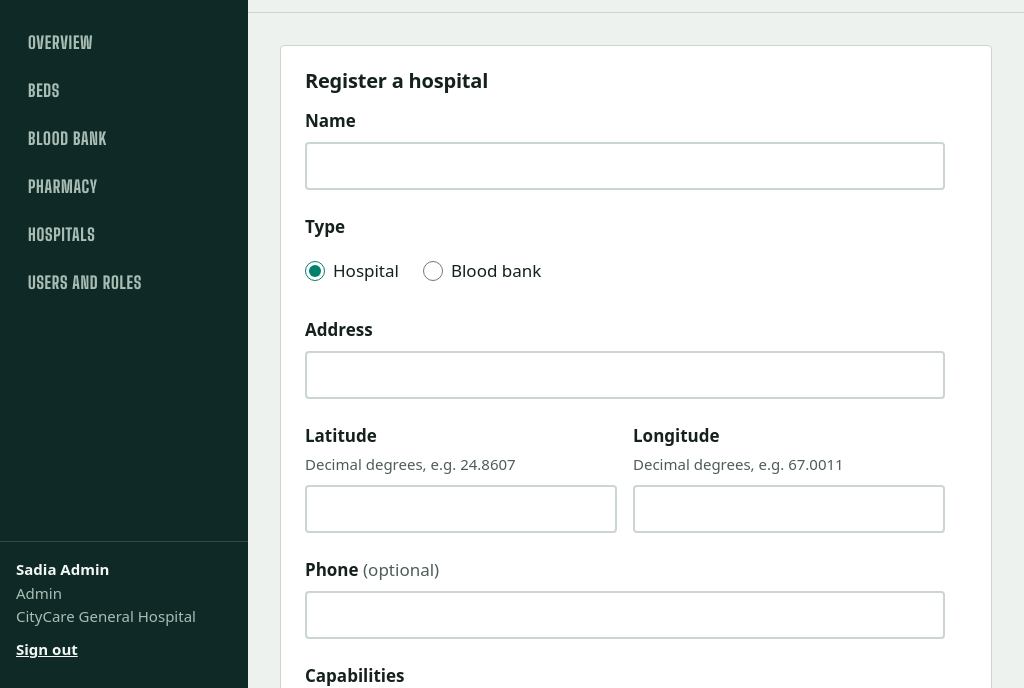
Test: HospitalFormPage (story 1.3 Hospital registration and capability profile) › registers a blood bank with capabilities and opens its page
Step 1. Type "Northside Hospital" into the field labelled "Name" → (625, 166), box [305,142,945,190]
Step 2. Type "North Nazimabad, Karachi" into the field labelled "Address" → (625, 375), box [305,351,945,399]
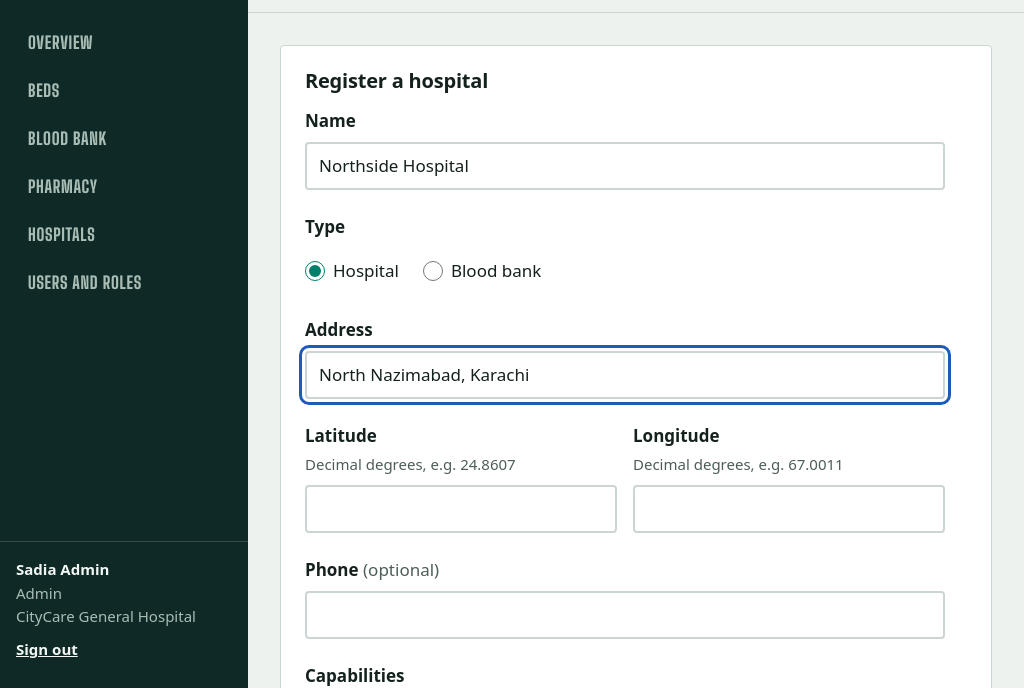
Step 3. Type "24.9420" into the field labelled "Latitude" → (461, 509), box [305,485,617,533]
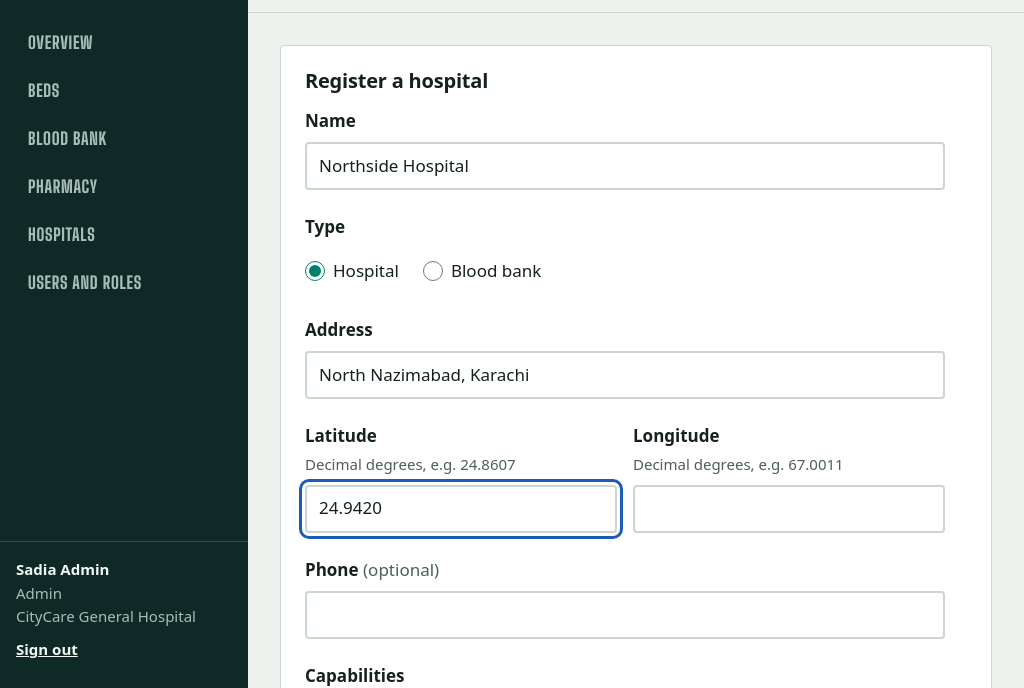
Step 4. Type "67.0347" into the field labelled "Longitude" → (789, 509), box [633,485,945,533]
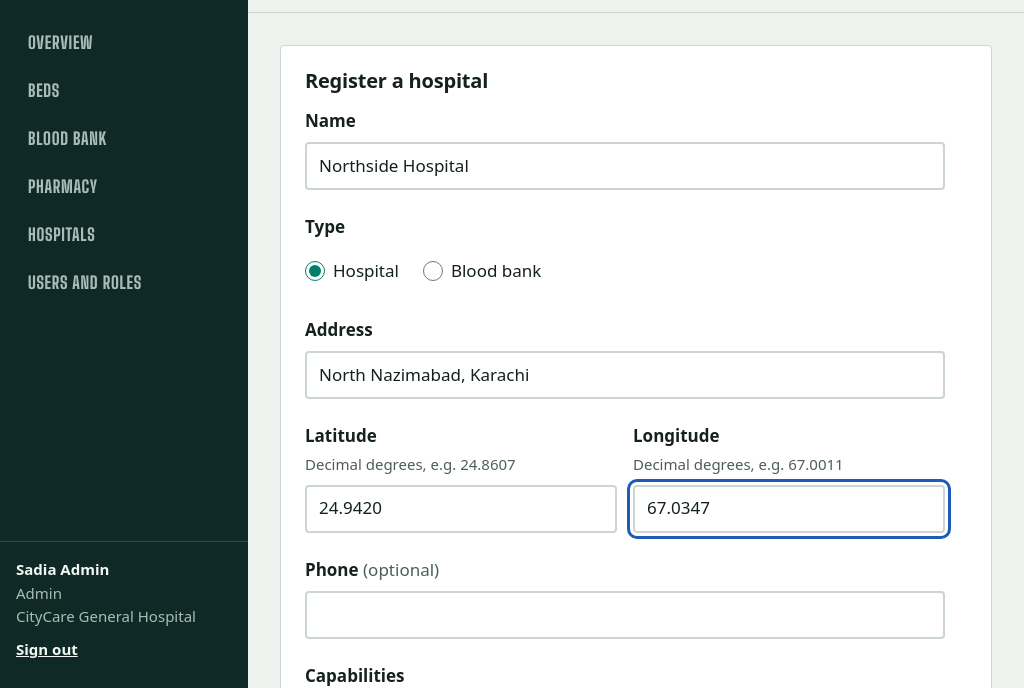
Step 5. Click the radio button labelled "Blood bank" → (433, 271), box [423,261,443,281]
(page scrolled)
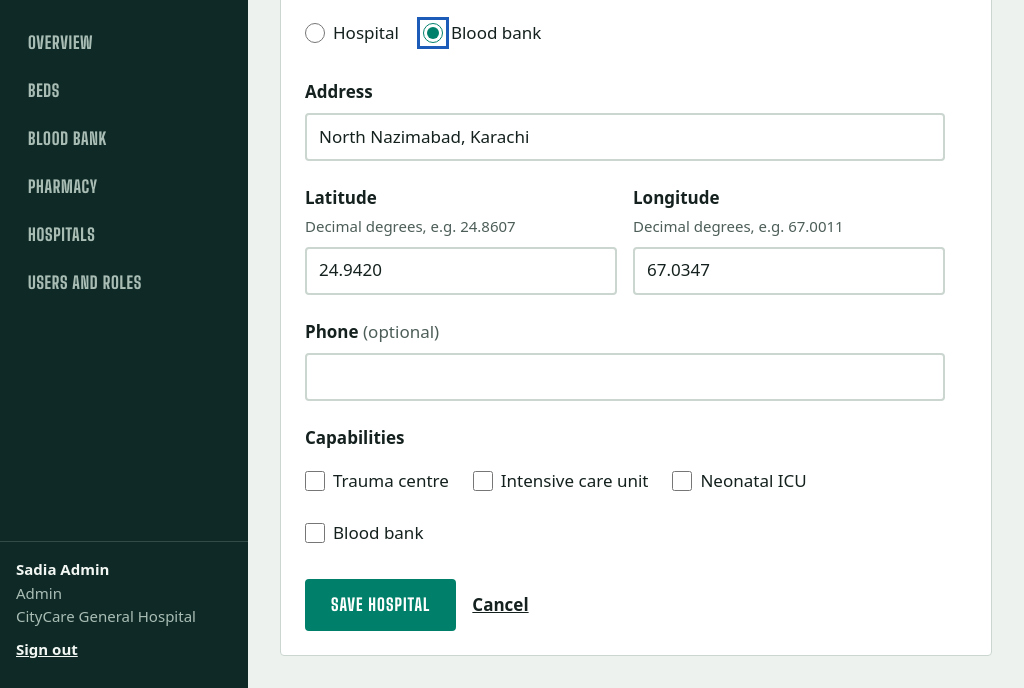
Step 6. Click the checkbox labelled "Trauma centre" → (315, 481), box [305,471,325,491]
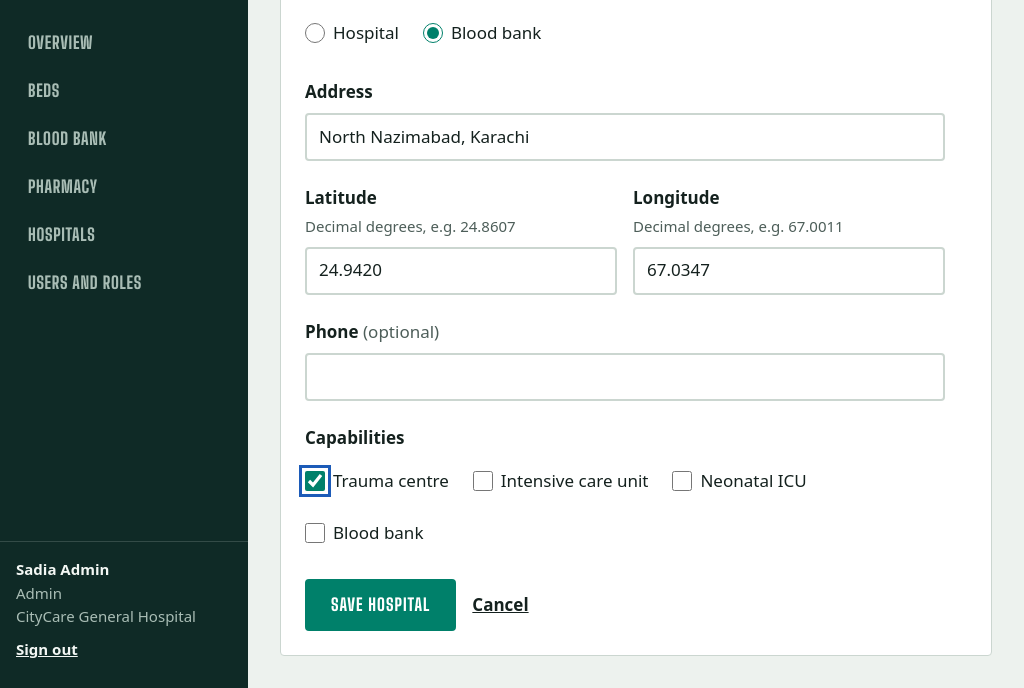
Step 7. Click the button "Save hospital" → (381, 605), box [305,579,456,631]
(page scrolled)
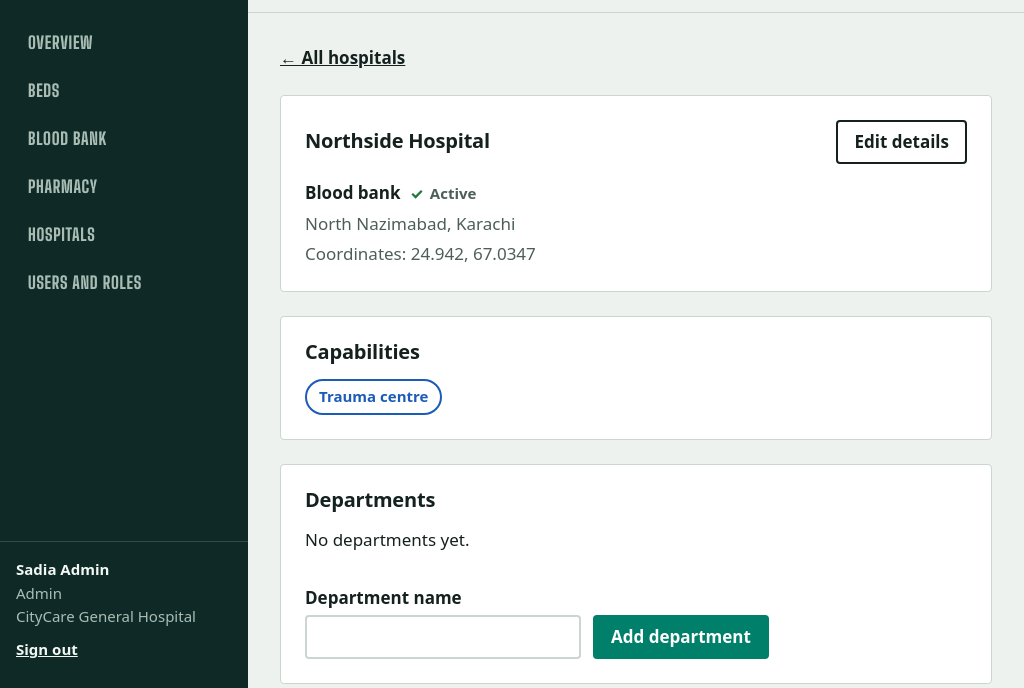
Expected: the list named "Capabilities" reads "Trauma centre", [319,386,428,406]
Expected: the heading "Northside Hospital" is shown, [305,130,490,152]
